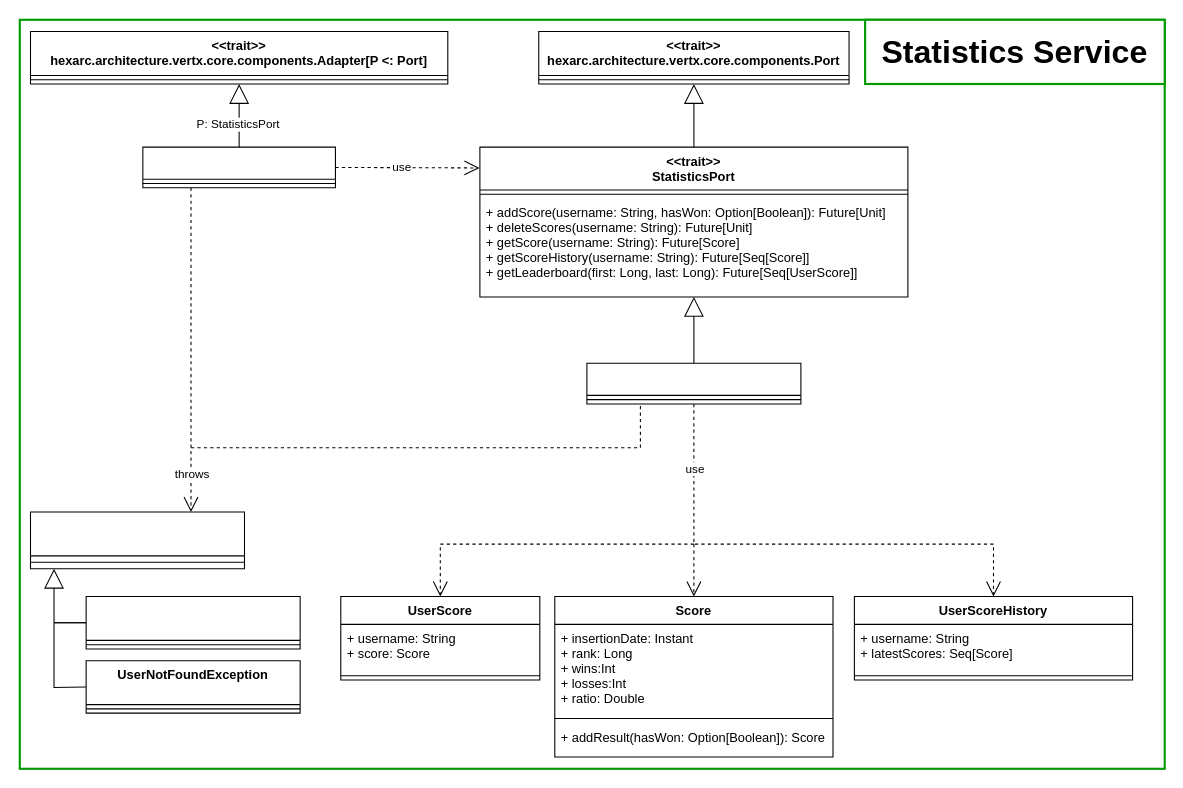
Some shapes in this 1183 by 788 pixel diagram are drawn without their labels. Here are the shapes that lost their labels. From the top down, the centre of each, then its label:
the point at 238,167: StatisticsHttpAdapter
the point at 693,383: StatisticsModel
the point at 136,540: StatisticsServiceException
the point at 192,622: MalformedInputException
